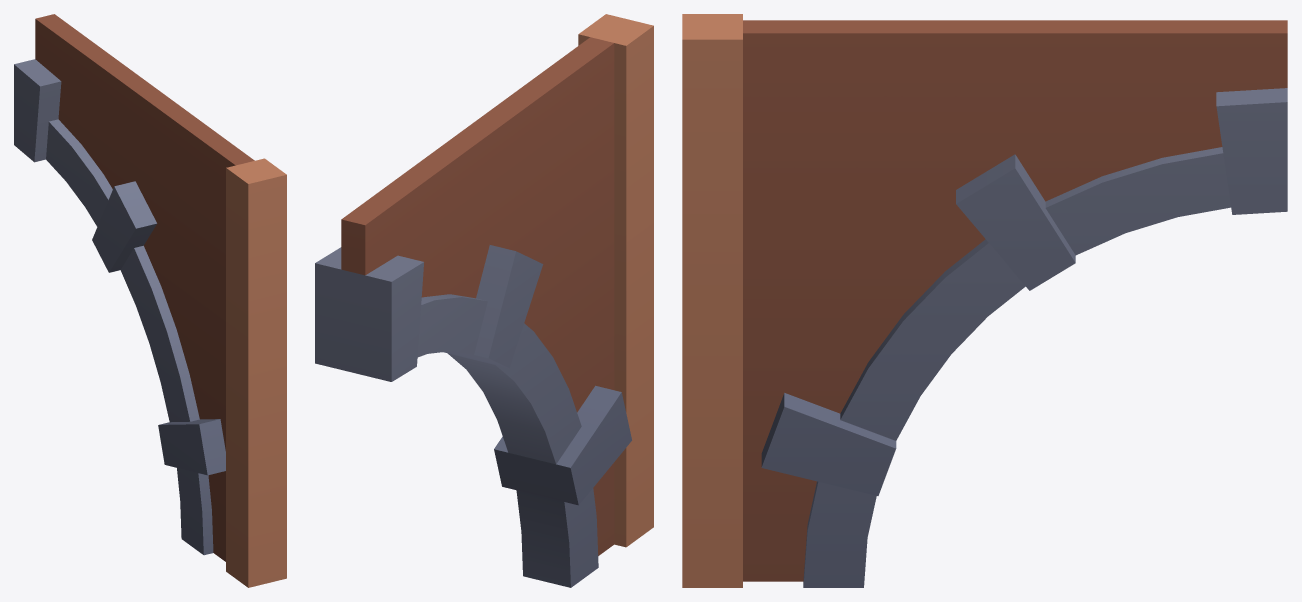
File: wall_wood_arch_top_detail.glb
The picture shows the model from 3 angles, left to right: view 1: azimuth 30°, elevation 25°; view 2: azimuth 150°, elevation 25°; view 3: azimuth 270°, elevation 25°; orthographic projection. The views are drawn at different scales.
Visible parts, largest first — view 1: wall-wood-arch-top-detail; view 2: wall-wood-arch-top-detail; view 3: wall-wood-arch-top-detail.
Boxes of the visible parts, x1,y1,x2,y2 form: wall-wood-arch-top-detail: (14,14,286,587); wall-wood-arch-top-detail: (315,14,653,587); wall-wood-arch-top-detail: (682,14,1287,587).
Bounding box in the file's own units: 0.16 × 1 × 1.
Materials: 1 (1 with a texture image).
